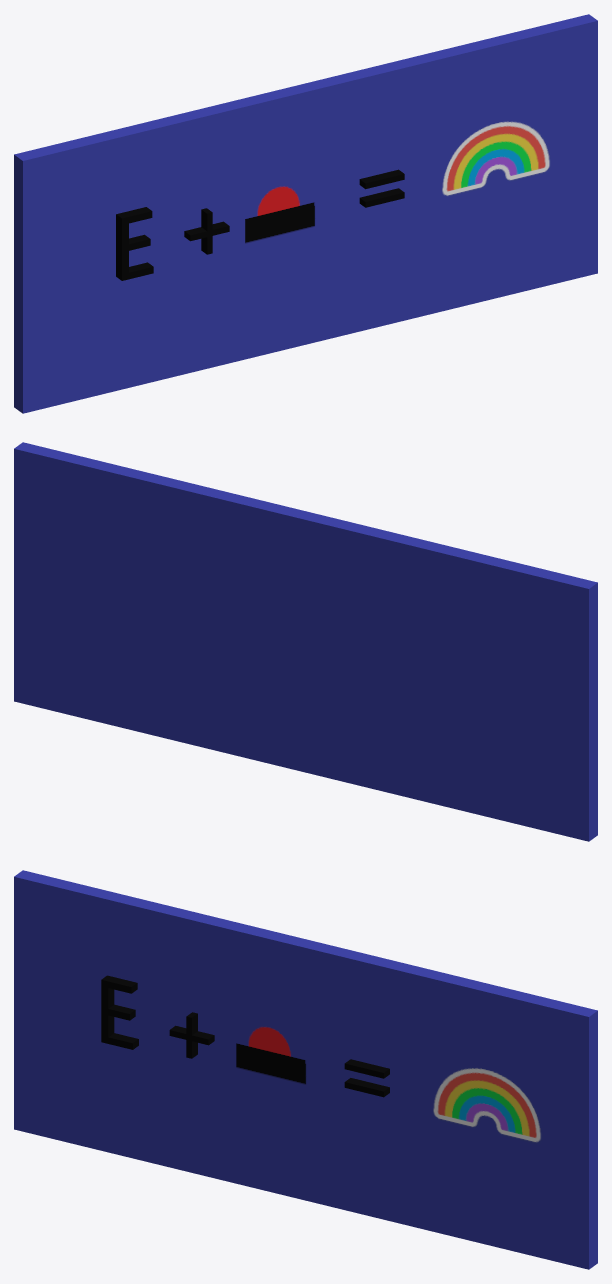
Rendered from painting.fbx.
3 renders of one model, top to bottom at view 1: azimuth 30°, elevation 25°; view 2: azimuth 150°, elevation 25°; view 3: azimuth 330°, elevation 25°, orthographic.
Visible parts, largest first — view 1: root, node_id68; view 2: root; view 3: root, node_id68.
Part boxes in pixels (<box>): root: <box>14,14,597,413</box>; node_id68: <box>116,169,404,280</box>; root: <box>14,442,597,841</box>; root: <box>14,870,597,1269</box>; node_id68: <box>101,975,389,1097</box>.
Size of the model in its own units: 0.8431 by 0.354 by 0.0377.
Materials: 2 (1 with a texture image).
